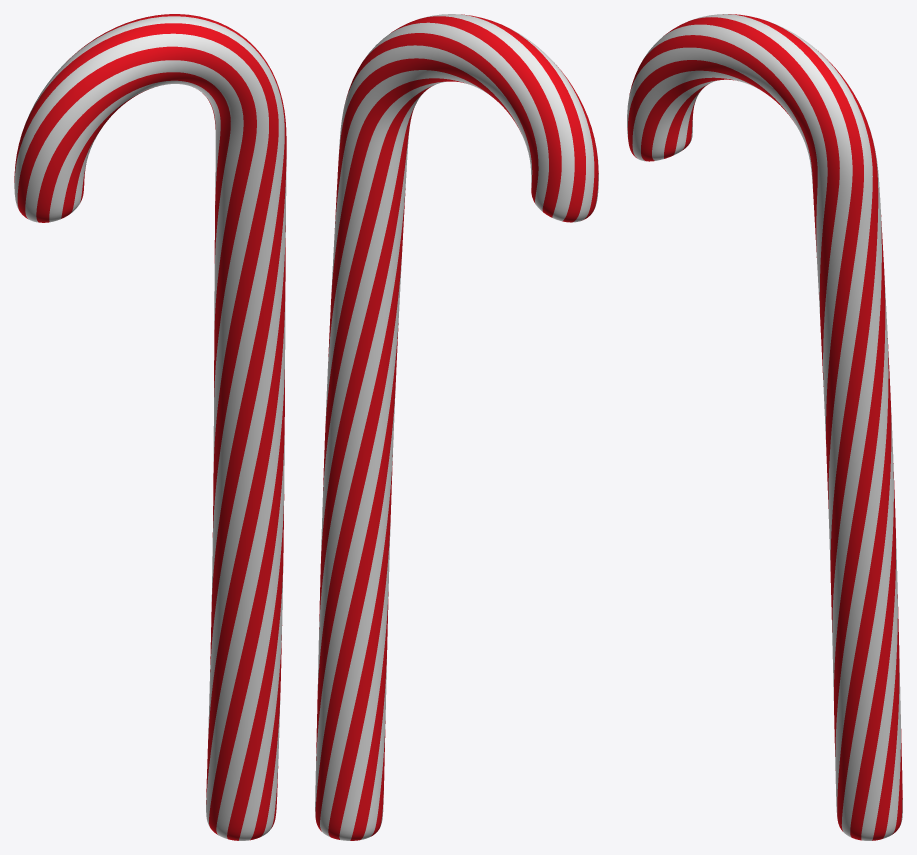
File: Cookie_CandyCane.fbx
3 views of the same model, side by side, from view 1: azimuth 30°, elevation 25°; view 2: azimuth 150°, elevation 25°; view 3: azimuth 330°, elevation 25° (orthographic). The views are drawn at different scales.
Visible parts, largest first — view 1: CandyCane; view 2: CandyCane; view 3: CandyCane.
Part boxes in pixels (box(x1,y1,x2,y2)): CandyCane: box(14, 14, 286, 840); CandyCane: box(315, 14, 598, 840); CandyCane: box(627, 14, 902, 840).
Bounding box in the file's own units: 42.75 × 130 × 15.4.
